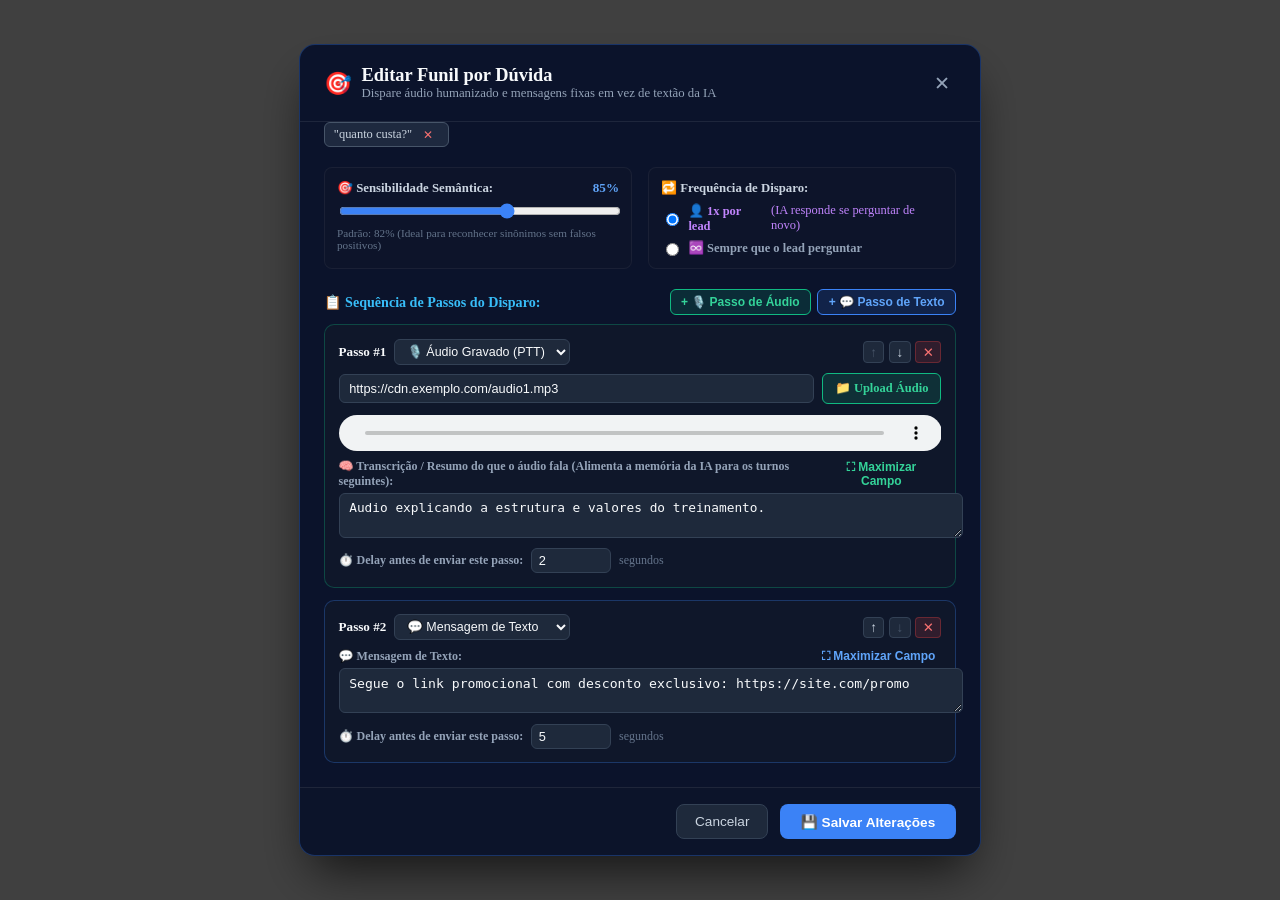
Test: QuestionFunnelModal - Funcionalidade de Maximizar Campo › deve atualizar o texto do passo ao digitar no editor em tela cheia e fechar ao clicar em Concluir
(page scrolled)
Click the button with test id "maximize-step-text-1" at (878, 656), box [816,648,941,664]
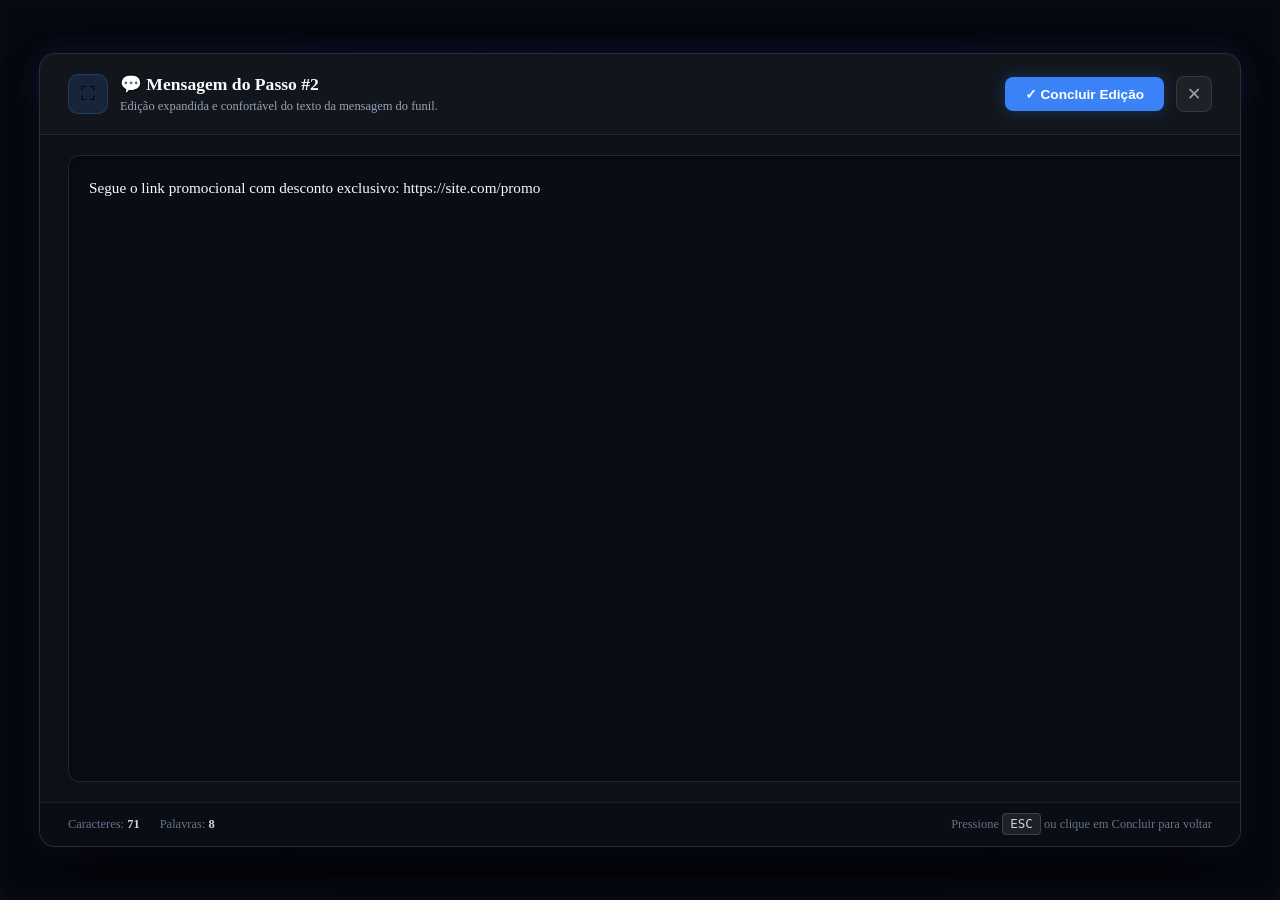
Replace the text in the text box with placeholder "Digite o texto aqui..." with "Texto atualizado pelo editor em tela cheia!" at (661, 468), box [68,155,1254,782]
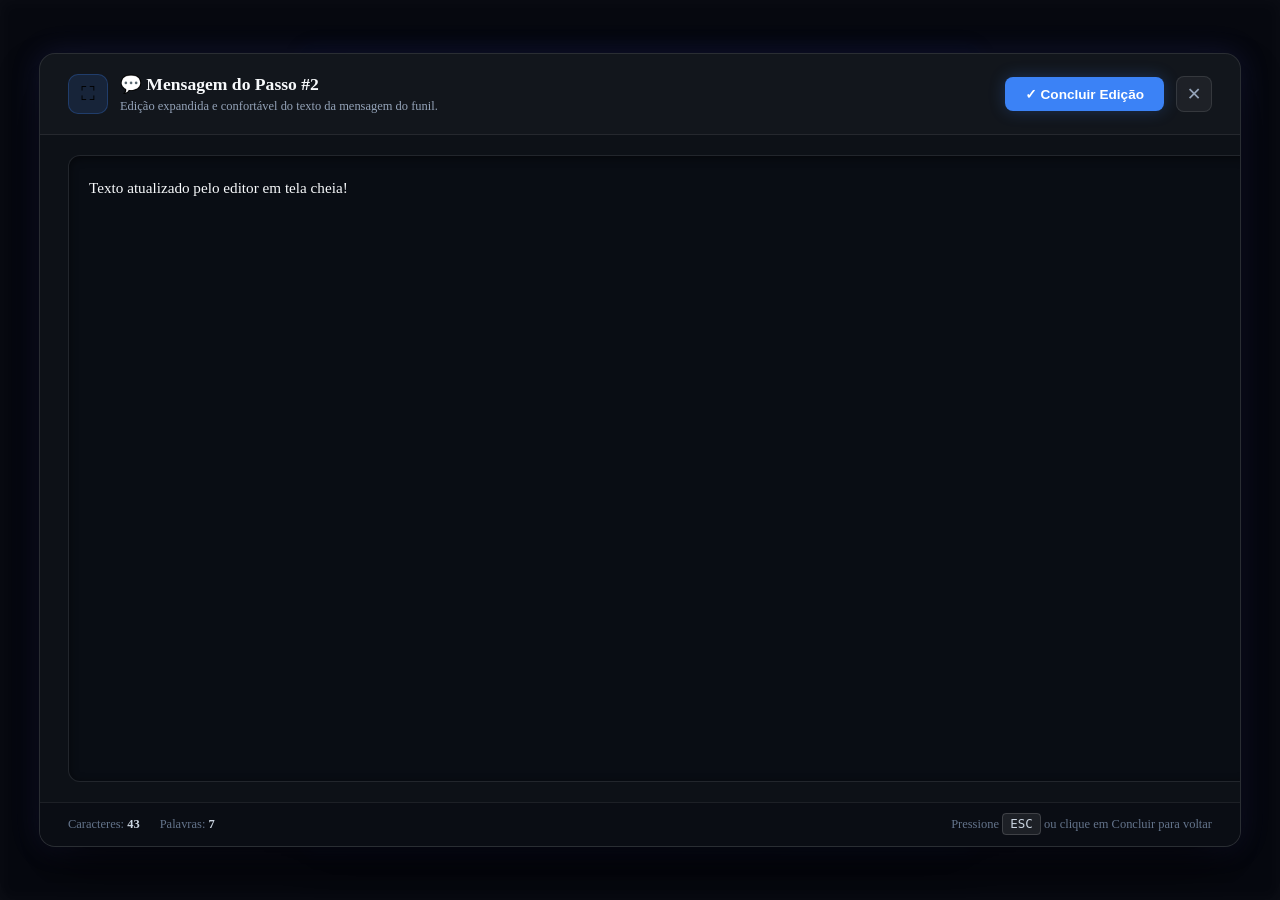
Click the button "✓ Concluir Edição" at (1085, 94), box [1005,77,1164,111]
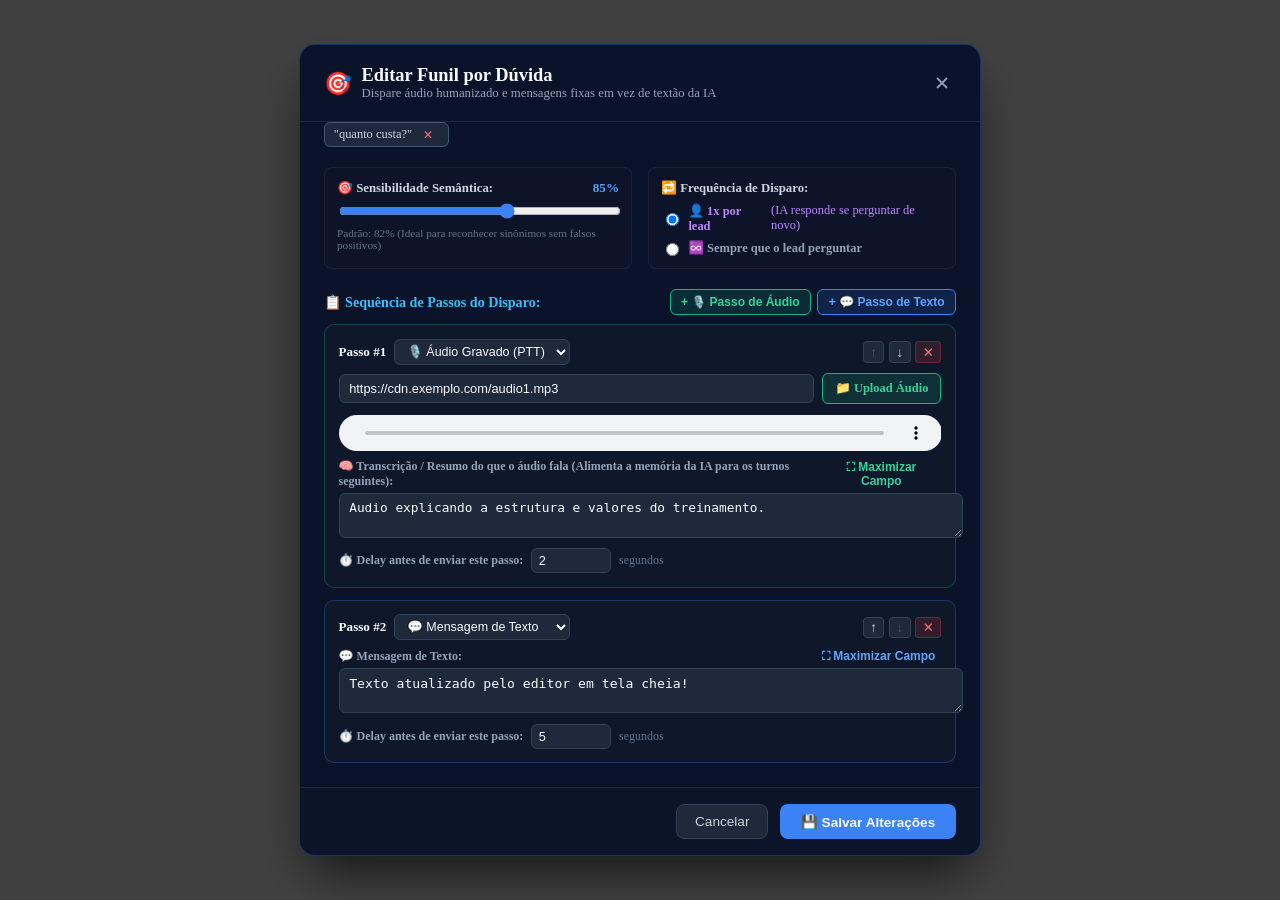
Check: the text box showing "Texto atualizado pelo editor em tela cheia!" below "💬 Mensagem de Texto:" is shown, box [339,668,963,713]
Check: the text "Edição expandida e confortável do texto da mensagem do funil" is gone
